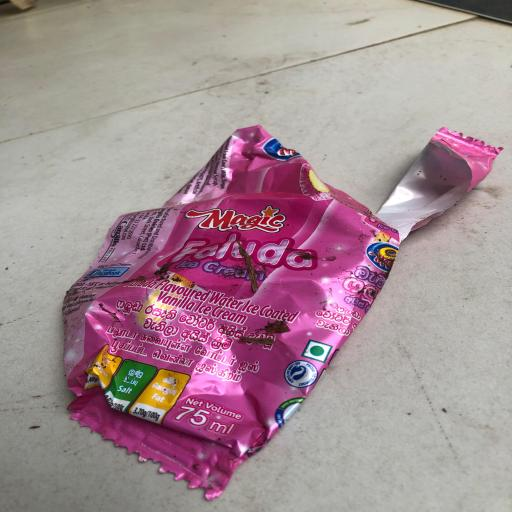waste: (51, 113, 506, 506)
